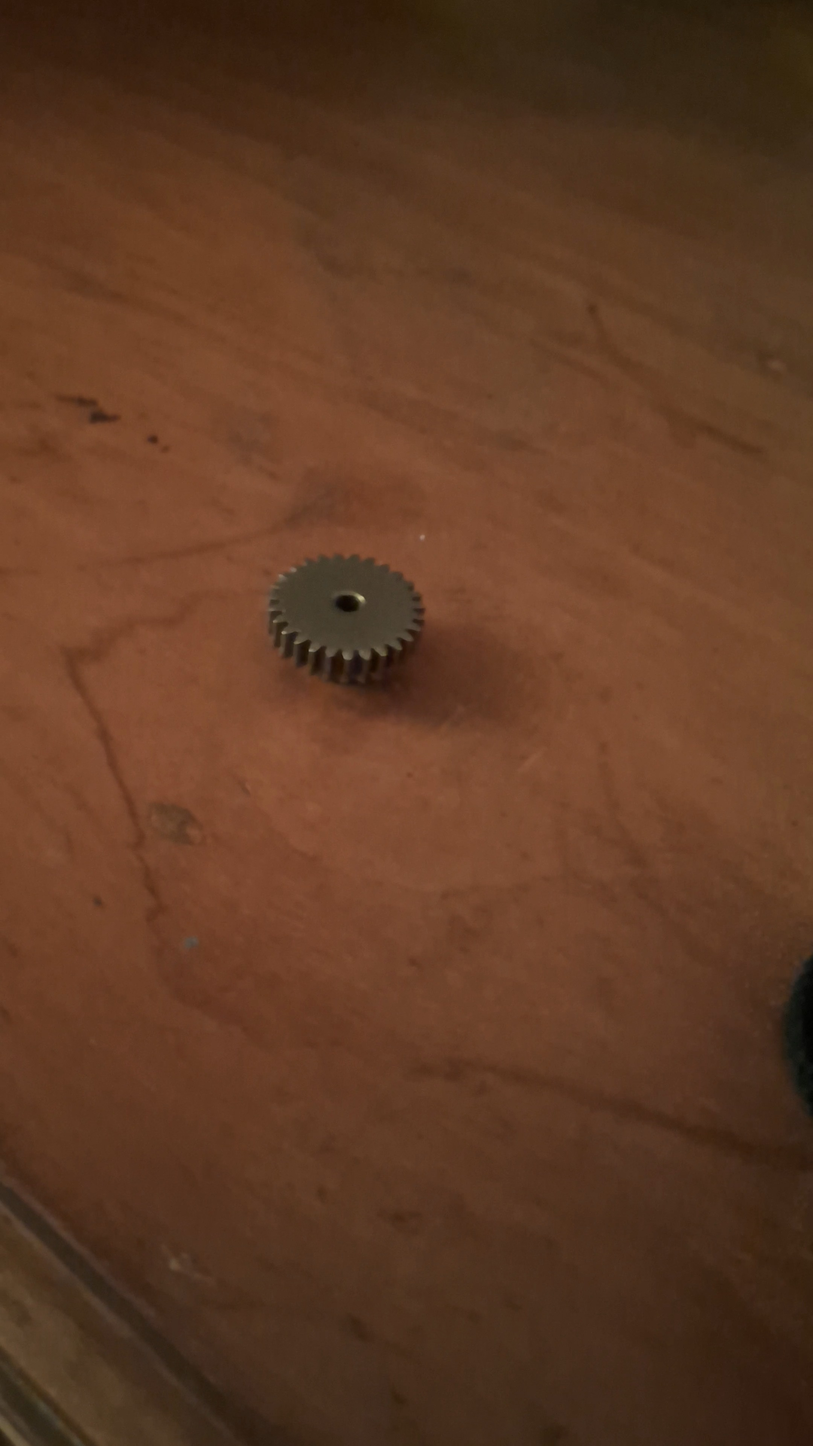spur gear: (268, 554, 423, 686)
